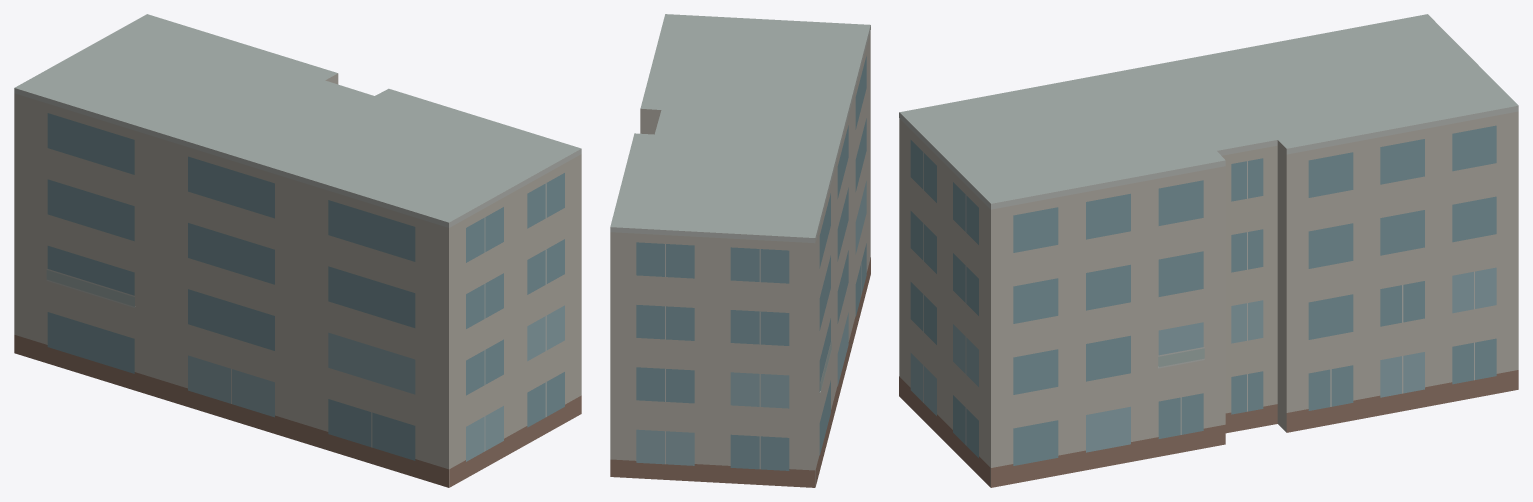
File: survey-upis-32673372.glb
The picture shows the model from 3 angles, left to right: view 1: azimuth 30°, elevation 25°; view 2: azimuth 150°, elevation 25°; view 3: azimuth 270°, elevation 25°; orthographic projection. The views are drawn at different scales.
Visible parts, largest first — view 1: survey-upis-32673372.tmp; view 2: survey-upis-32673372.tmp; view 3: survey-upis-32673372.tmp.
Boxes of the visible parts, x1=… form: survey-upis-32673372.tmp: x1=14, y1=14, x2=581, y2=487; survey-upis-32673372.tmp: x1=610, y1=14, x2=870, y2=487; survey-upis-32673372.tmp: x1=899, y1=14, x2=1518, y2=487.
Bounding box in the file's own units: 17.22 × 12 × 23.73.
